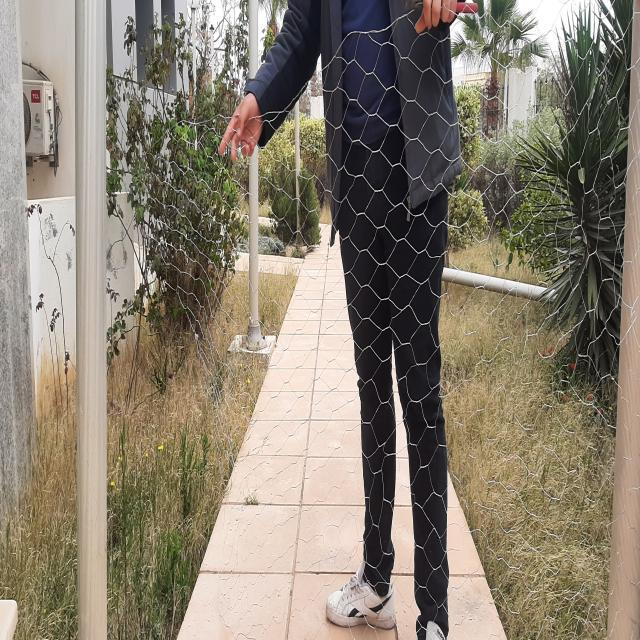fence line: (101, 212, 254, 607), (165, 45, 348, 138)
